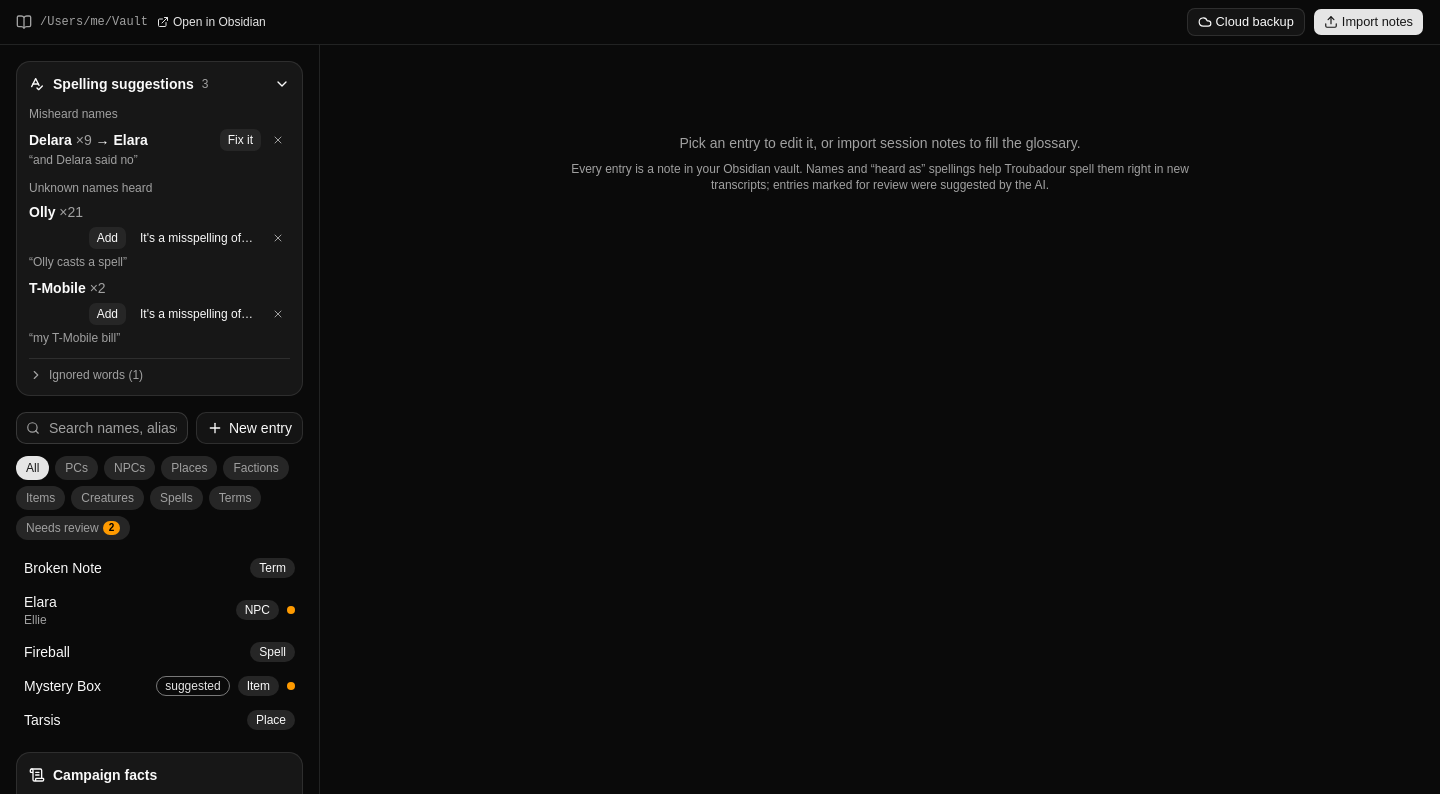
Test: entry editor › accepts and rejects suggested spellings through the atomic review endpoint
Click the button "Elara Ellie NPC".
click(40, 602)  # box [16, 586, 303, 634]
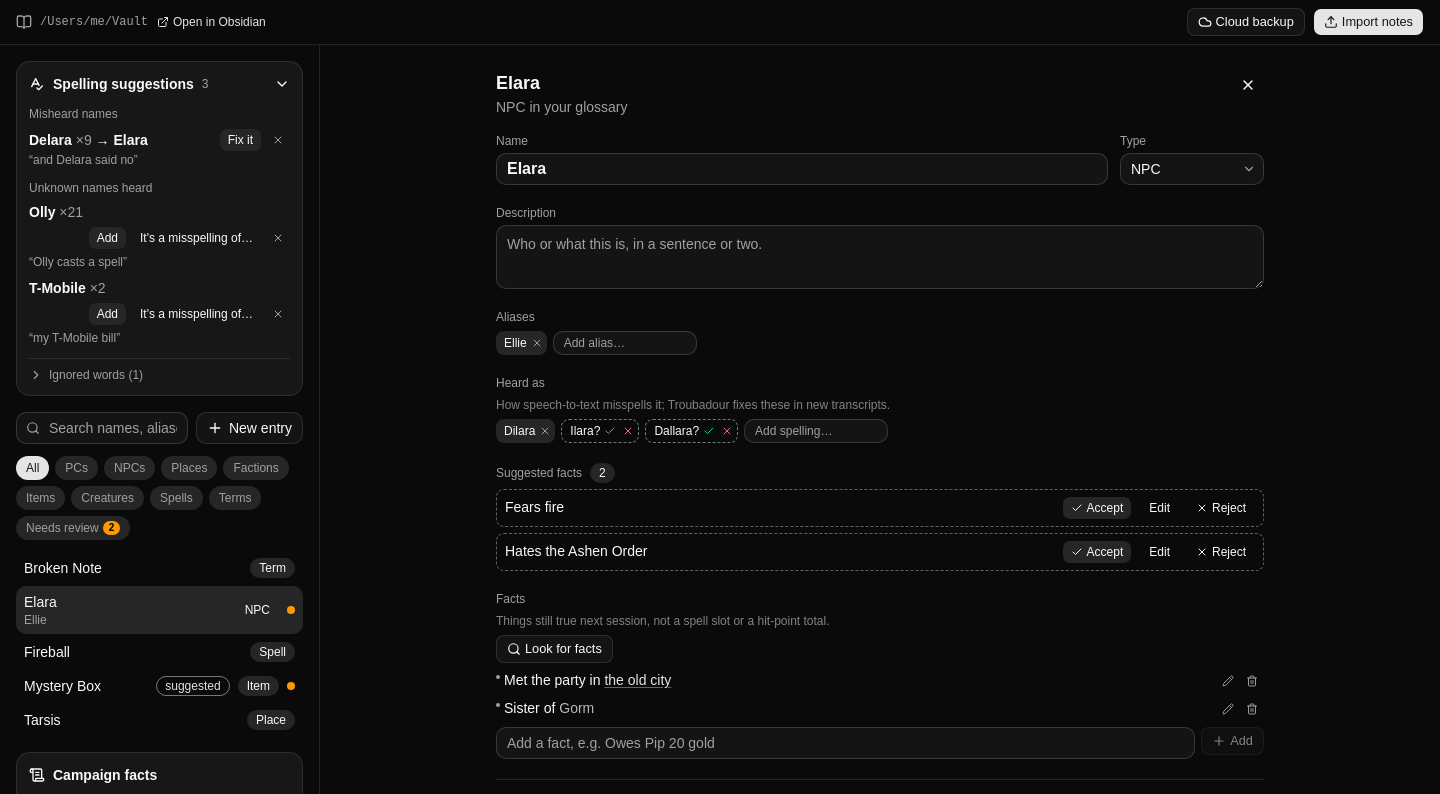
Check: the text "How speech-to-text misspells it; Troubadour fixes these in new transcripts." is shown, box [496, 398, 890, 412]
Click the button named "Accept spelling Ilara".
click(610, 431)  # box [602, 423, 618, 439]
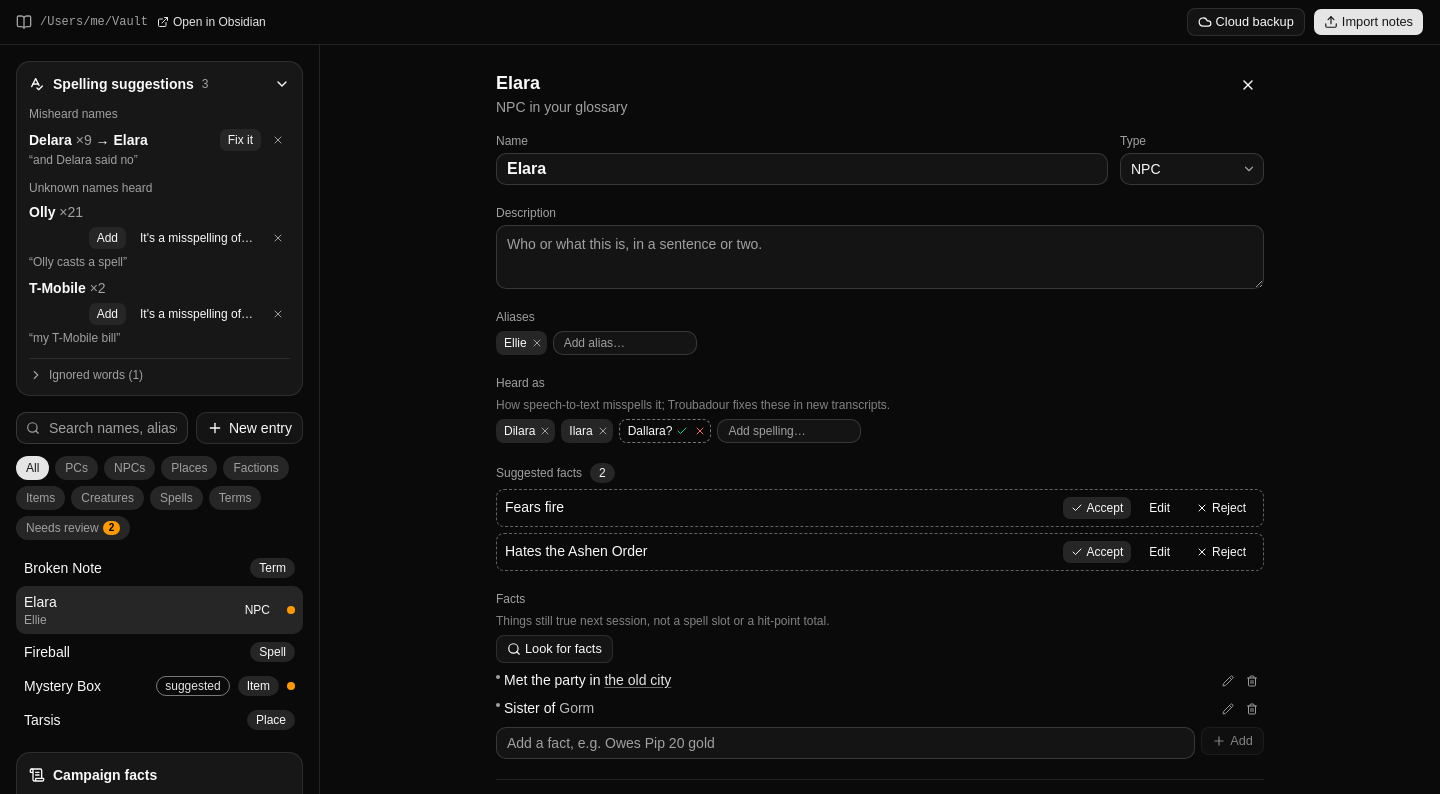
Check: the button named "Remove spelling Ilara" is shown, box [595, 423, 611, 439]
Click the button named "Reject spelling Dallara".
click(700, 431)  # box [692, 423, 708, 439]
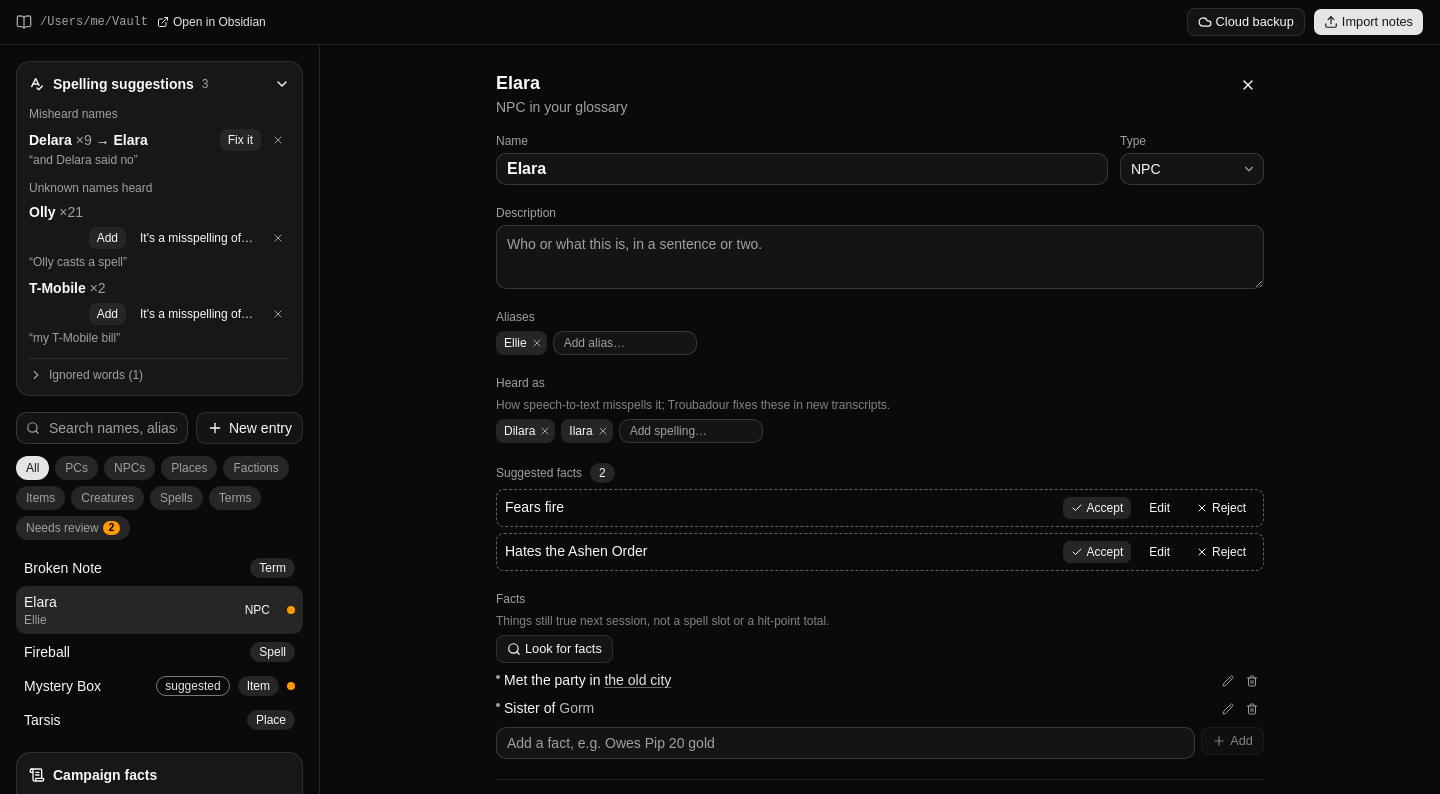
Check: the element with test id "suggested-spelling" is gone
